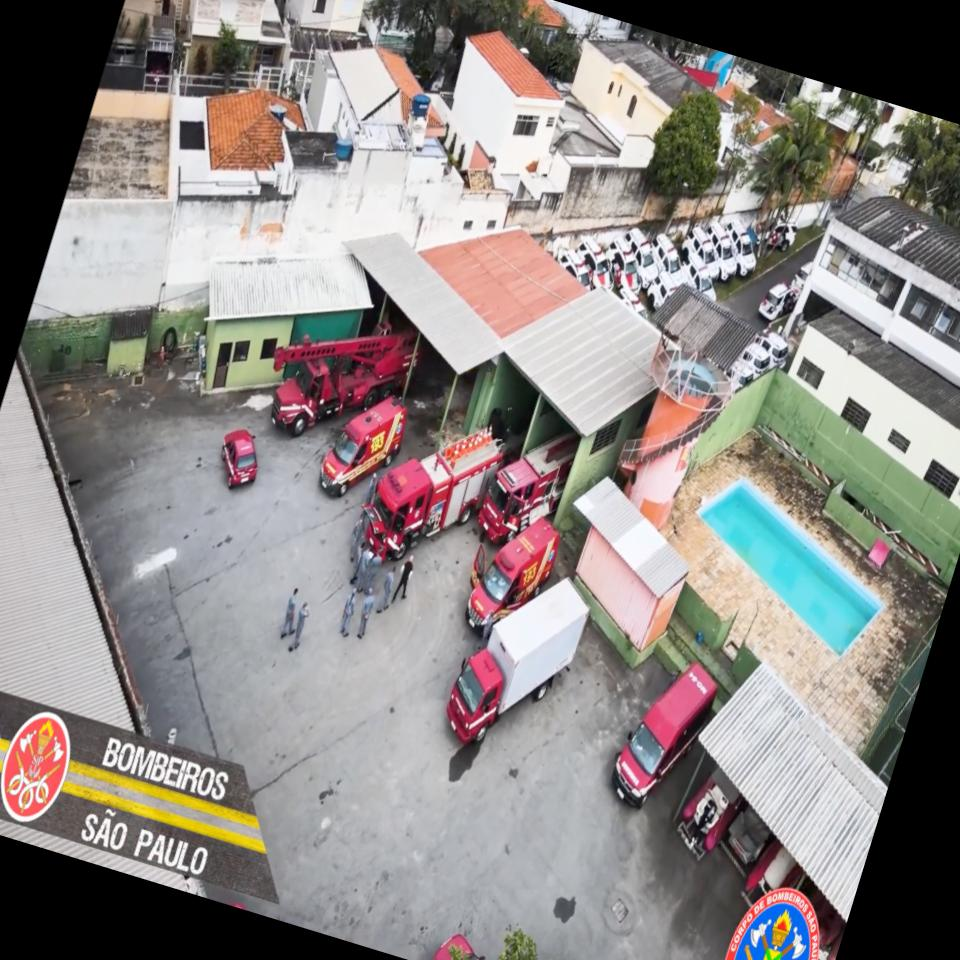viatura: (256, 308, 423, 468), (362, 400, 506, 571)
